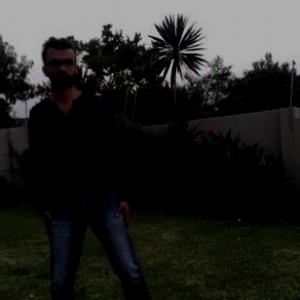follow: (28, 37, 126, 297)
